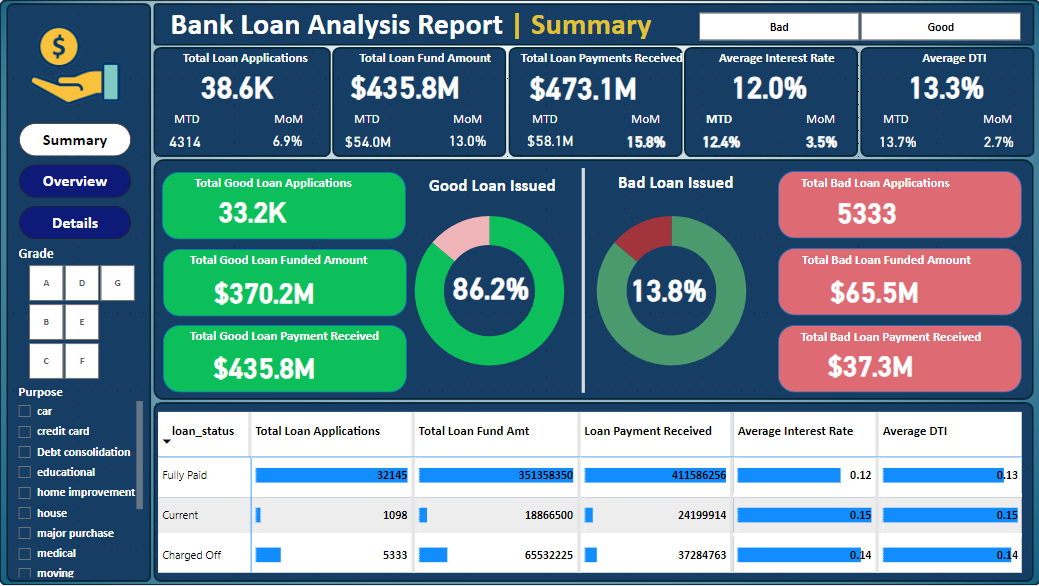

What the dashboard file says about the page in this screenshot:
{"tool":"powerbi","page":{"name":"Summary","canvas":[1280,720],"ordinal":0},"visuals":[{"type":"card","fields":{"Values":["Measure Table.Total Loan Payment Amount Received"]},"box":[641.1,75.1,152.9,61.4],"z":0},{"type":"card","fields":{"Values":["Measure Table.Tota Loan Fund Amount"]},"box":[421.8,72.2,152.9,64.3],"z":1000},{"type":"card","fields":{"Values":["Measure Table.Total loan applications"]},"box":[228.8,73.8,125.3,62.7],"z":2000},{"type":"card","fields":{"Values":["Measure Table.Average Of DTI"]},"box":[1101.3,73.8,125.3,62.7],"z":3000},{"type":"card","fields":{"Values":["Measure Table.Average Interest Rate"]},"box":[883.8,73.8,125.3,62.7],"z":4000},{"type":"textbox","box":[629.4,56,223.6,30.9],"z":5000},{"type":"textbox","box":[430.3,56,185.3,29.3],"z":6000},{"type":"textbox","box":[209.3,56,185.3,29.3],"z":7000},{"type":"textbox","box":[1081.8,56,185.3,29.3],"z":8000},{"type":"textbox","box":[844.4,56,223.6,30.9],"z":9000},{"type":"textbox","box":[649.3,131.8,93.3,40],"z":10000},{"type":"textbox","box":[430.3,131.8,93.3,40],"z":11000},{"type":"textbox","box":[209.3,131.8,93.3,40],"z":12000},{"type":"textbox","box":[1081.8,131.8,93.3,40],"z":13000},{"type":"textbox","box":[864.4,131.8,93.3,40],"z":14000},{"type":"textbox","box":[772,131.8,62.7,40],"z":16000},{"type":"textbox","box":[553,131.8,62.7,40],"z":17000},{"type":"textbox","box":[332,131.8,62.7,40],"z":18000},{"type":"textbox","box":[1204.5,131.8,62.7,40],"z":19000},{"type":"textbox","box":[987.1,131.8,62.7,40],"z":20000},{"type":"textbox","box":[190,1.2,632.5,61.2],"z":21000},{"type":"card","fields":{"Values":["Measure Table.MTD Total Loan Payments Received"]},"box":[636.4,156.4,81.8,34.5],"z":22000},{"type":"card","fields":{"Values":["Measure Table.MTD Total Loan Fund Amount"]},"box":[410.8,157.2,83.8,33.8],"z":23000},{"type":"card","fields":{"Values":["Measure Table.MTD Total Loan Applications"]},"box":[200,157.3,56.4,33.6],"z":24000},{"type":"card","fields":{"Values":["Measure Table.MTD Average DTI"]},"box":[1068.2,157.3,72.7,33.6],"z":25000},{"type":"card","fields":{"Values":["Measure Table.MTD Average Interest Rate"]},"box":[852.7,157.3,69.1,33.6],"z":26000},{"type":"card","fields":{"Values":["Measure Table.MoM Total Loan Payment Received"]},"box":[755.5,157.3,78.2,33.6],"z":27000},{"type":"card","fields":{"Values":["Measure Table.MoM Total Loan Fund Amount"]},"box":[546.3,157.6,57.3,33.3],"z":28000},{"type":"card","fields":{"Values":["Measure Table.MoM Total Loan Applications"]},"box":[325.3,157.6,57.3,33.3],"z":29000},{"type":"card","fields":{"Values":["Measure Table.MoM Average DTI"]},"box":[1191.8,157.3,75.5,33.6],"z":30000},{"type":"card","fields":{"Values":["Measure Table.MoM Average Interest Rate"]},"box":[980,157.3,62.7,33.6],"z":31000},{"type":"slicer","fields":{"Values":["financial_loan.grade"]},"box":[10,295,180,178],"z":32000},{"type":"slicer","fields":{"Values":["financial_loan.purpose"]},"box":[10,467.5,171.2,247.5],"z":33000},{"type":"slicer","fields":{"Values":["financial_loan.Good_bad"]},"box":[834,8,446,48],"z":34000},{"type":"donutChart","fields":{"Category":["financial_loan.Good_bad"],"Y":["CountNonNull(financial_loan.id)"]},"box":[706,223,240,270],"z":41000},{"type":"donutChart","fields":{"Category":["financial_loan.Good_bad"],"Y":["CountNonNull(financial_loan.id)"]},"box":[483,223,240,270],"z":42000},{"type":"card","fields":{"Values":["Measure Table.Good Loan Total Loan Fund Amount"]},"box":[210,331.4,125.7,57.1],"z":43000},{"type":"textbox","box":[506.2,210,200,36.2],"z":44000},{"type":"shape","box":[199,211.4,300,83],"z":44000,"group":"g1"},{"type":"textbox","box":[732.5,206.2,198.8,46.2],"z":45000},{"type":"shape","box":[200.4,305.7,300,83],"z":45000,"group":"g1"},{"type":"group","id":"g1","title":"Group 1","box":[199,210,1058,272],"z":46000},{"type":"shape","box":[200.4,400,300,83],"z":46000,"group":"g1"},{"type":"shape","box":[957.6,210,300,83],"z":47000,"group":"g1"},{"type":"textbox","box":[193,211,286,35],"z":47000},{"type":"textbox","box":[200,305,285,41],"z":48000},{"type":"shape","box":[957.6,305,300,83],"z":48000,"group":"g1"},{"type":"textbox","box":[216,399,267,31],"z":49000},{"type":"shape","box":[957.6,400,300,83],"z":49000,"group":"g1"},{"type":"textbox","box":[953.6,210.9,247.3,30],"z":50000},{"type":"textbox","box":[953,305,277,40],"z":51000},{"type":"textbox","box":[964,400,266,30],"z":52000},{"type":"card","fields":{"Values":["Measure Table.Good Loan Total Loan Applications"]},"box":[237.8,226.7,145.6,63.3],"z":53000},{"type":"card","fields":{"Values":["Measure Table.Good Loan Total Loan Fund Amount"]},"box":[247.8,325.6,155.6,63.3],"z":54000},{"type":"card","fields":{"Values":["Measure Table.Good Loan Total Loan Payment Received"]},"box":[247.8,418.9,155.6,63.3],"z":55000},{"type":"card","fields":{"Values":["Measure Table.Bad Loan Total Loan Applications"]},"box":[993.3,227.8,146.7,63.3],"z":56000},{"type":"card","fields":{"Values":["Measure Table.Bad Loan Total Loan Fund Amount"]},"box":[1003.3,324.4,146.7,63.3],"z":57000},{"type":"card","fields":{"Values":["Measure Table.Bad Loan Total Loan Payment Received"]},"box":[1003.3,415.6,136.7,63.3],"z":58000},{"type":"shape","box":[695,206.7,45,276.7],"z":59000},{"type":"card","fields":{"Values":["Measure Table.Good Loan %age"]},"box":[538.6,305.7,130,92.9],"z":60000},{"type":"card","fields":{"Values":["Measure Table.Bad Loan %age"]},"box":[758.6,307.1,128.6,92.9],"z":61000},{"type":"pivotTable","fields":{"Rows":["financial_loan.loan_status"],"Values":["CountNonNull(financial_loan.id)","Sum(financial_loan.loan_amount)","Sum(financial_loan.total_payment)","Avg(financial_loan.int_rate)","Avg(financial_loan.dti)"]},"box":[190,501.1,1076.7,214.4],"z":62000},{"type":"image","box":[10,0,164.3,160],"z":63000},{"type":"pageNavigator","box":[23.8,151.2,138.8,143.8],"z":63001}]}

Visuals, with their boxes in screenshot pixels (x1, y1, x2, y2), scaled from the page's 1280x720 canvas onto the 1039x586 screenshot:
card - Measure Table.Total Loan Payment Amount Received: <bbox>520, 61, 645, 111</bbox>
card - Measure Table.Tota Loan Fund Amount: <bbox>342, 59, 466, 111</bbox>
card - Measure Table.Total loan applications: <bbox>186, 60, 287, 111</bbox>
card - Measure Table.Average Of DTI: <bbox>894, 60, 996, 111</bbox>
card - Measure Table.Average Interest Rate: <bbox>717, 60, 819, 111</bbox>
textbox: <bbox>511, 46, 692, 71</bbox>
textbox: <bbox>349, 46, 500, 69</bbox>
textbox: <bbox>170, 46, 320, 69</bbox>
textbox: <bbox>878, 46, 1029, 69</bbox>
textbox: <bbox>685, 46, 867, 71</bbox>
textbox: <bbox>527, 107, 603, 140</bbox>
textbox: <bbox>349, 107, 425, 140</bbox>
textbox: <bbox>170, 107, 246, 140</bbox>
textbox: <bbox>878, 107, 954, 140</bbox>
textbox: <bbox>702, 107, 777, 140</bbox>
textbox: <bbox>627, 107, 678, 140</bbox>
textbox: <bbox>449, 107, 500, 140</bbox>
textbox: <bbox>269, 107, 320, 140</bbox>
textbox: <bbox>978, 107, 1029, 140</bbox>
textbox: <bbox>801, 107, 852, 140</bbox>
textbox: <bbox>154, 1, 668, 51</bbox>
card - Measure Table.MTD Total Loan Payments Received: <bbox>517, 127, 583, 155</bbox>
card - Measure Table.MTD Total Loan Fund Amount: <bbox>333, 128, 401, 155</bbox>
card - Measure Table.MTD Total Loan Applications: <bbox>162, 128, 208, 155</bbox>
card - Measure Table.MTD Average DTI: <bbox>867, 128, 926, 155</bbox>
card - Measure Table.MTD Average Interest Rate: <bbox>692, 128, 748, 155</bbox>
card - Measure Table.MoM Total Loan Payment Received: <bbox>613, 128, 677, 155</bbox>
card - Measure Table.MoM Total Loan Fund Amount: <bbox>443, 128, 490, 155</bbox>
card - Measure Table.MoM Total Loan Applications: <bbox>264, 128, 311, 155</bbox>
card - Measure Table.MoM Average DTI: <bbox>967, 128, 1029, 155</bbox>
card - Measure Table.MoM Average Interest Rate: <bbox>795, 128, 846, 155</bbox>
slicer - financial_loan.grade: <bbox>8, 240, 154, 385</bbox>
slicer - financial_loan.purpose: <bbox>8, 380, 147, 582</bbox>
slicer - financial_loan.Good_bad: <bbox>677, 7, 1038, 46</bbox>
donutChart - financial_loan.Good_bad x CountNonNull(financial_loan.id): <bbox>573, 181, 768, 401</bbox>
donutChart - financial_loan.Good_bad x CountNonNull(financial_loan.id): <bbox>392, 181, 587, 401</bbox>
card - Measure Table.Good Loan Total Loan Fund Amount: <bbox>170, 270, 272, 316</bbox>
textbox: <bbox>411, 171, 573, 200</bbox>
shape: <bbox>162, 172, 405, 240</bbox>
textbox: <bbox>595, 168, 756, 205</bbox>
shape: <bbox>163, 249, 406, 316</bbox>
"Group 1" group: <bbox>162, 171, 1020, 392</bbox>
shape: <bbox>163, 326, 406, 393</bbox>
shape: <bbox>777, 171, 1021, 238</bbox>
textbox: <bbox>157, 172, 389, 200</bbox>
textbox: <bbox>162, 248, 394, 282</bbox>
shape: <bbox>777, 248, 1021, 316</bbox>
textbox: <bbox>175, 325, 392, 350</bbox>
shape: <bbox>777, 326, 1021, 393</bbox>
textbox: <bbox>774, 172, 975, 196</bbox>
textbox: <bbox>774, 248, 998, 281</bbox>
textbox: <bbox>782, 326, 998, 350</bbox>
card - Measure Table.Good Loan Total Loan Applications: <bbox>193, 185, 311, 236</bbox>
card - Measure Table.Good Loan Total Loan Fund Amount: <bbox>201, 265, 327, 317</bbox>
card - Measure Table.Good Loan Total Loan Payment Received: <bbox>201, 341, 327, 392</bbox>
card - Measure Table.Bad Loan Total Loan Applications: <bbox>806, 185, 925, 237</bbox>
card - Measure Table.Bad Loan Total Loan Fund Amount: <bbox>814, 264, 933, 316</bbox>
card - Measure Table.Bad Loan Total Loan Payment Received: <bbox>814, 338, 925, 390</bbox>
shape: <bbox>564, 168, 601, 393</bbox>
card - Measure Table.Good Loan %age: <bbox>437, 249, 543, 324</bbox>
card - Measure Table.Bad Loan %age: <bbox>616, 250, 720, 326</bbox>
pivotTable - financial_loan.loan_status x CountNonNull(financial_loan.id): <bbox>154, 408, 1028, 582</bbox>
image: <bbox>8, 0, 141, 130</bbox>
pageNavigator: <bbox>19, 123, 132, 240</bbox>
